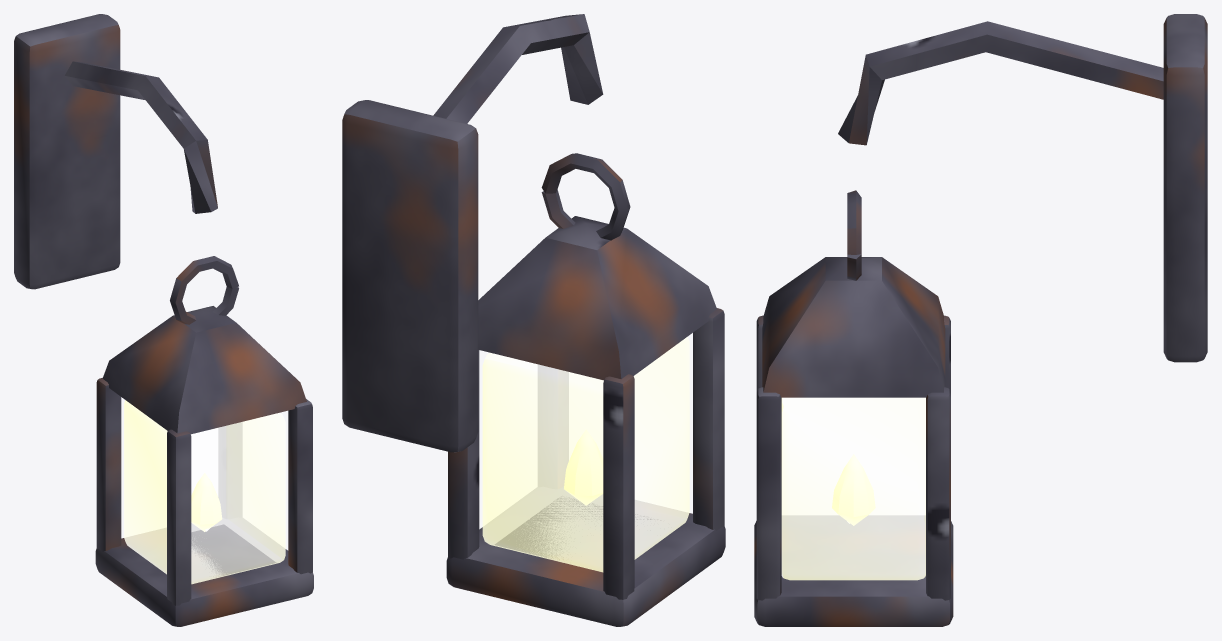
Rendered from lantern_wall.gltf.
3 views of the same model, side by side, from view 1: azimuth 30°, elevation 25°; view 2: azimuth 150°, elevation 25°; view 3: azimuth 270°, elevation 25° (orthographic). The views are drawn at different scales.
Visible parts, largest first — view 1: lantern_wall_mesh, FLAME_lantern; view 2: lantern_wall_mesh, FLAME_lantern; view 3: lantern_wall_mesh, FLAME_lantern.
Part boxes in pixels (bbox=[...]): lantern_wall_mesh: bbox=[14, 14, 313, 626]; FLAME_lantern: bbox=[191, 473, 221, 531]; lantern_wall_mesh: bbox=[342, 14, 725, 626]; FLAME_lantern: bbox=[564, 430, 602, 505]; lantern_wall_mesh: bbox=[754, 14, 1207, 626]; FLAME_lantern: bbox=[832, 454, 875, 525].
Size of the model in its own units: 0.18 by 0.5642 by 0.41.
4 materials, 1 textured.
